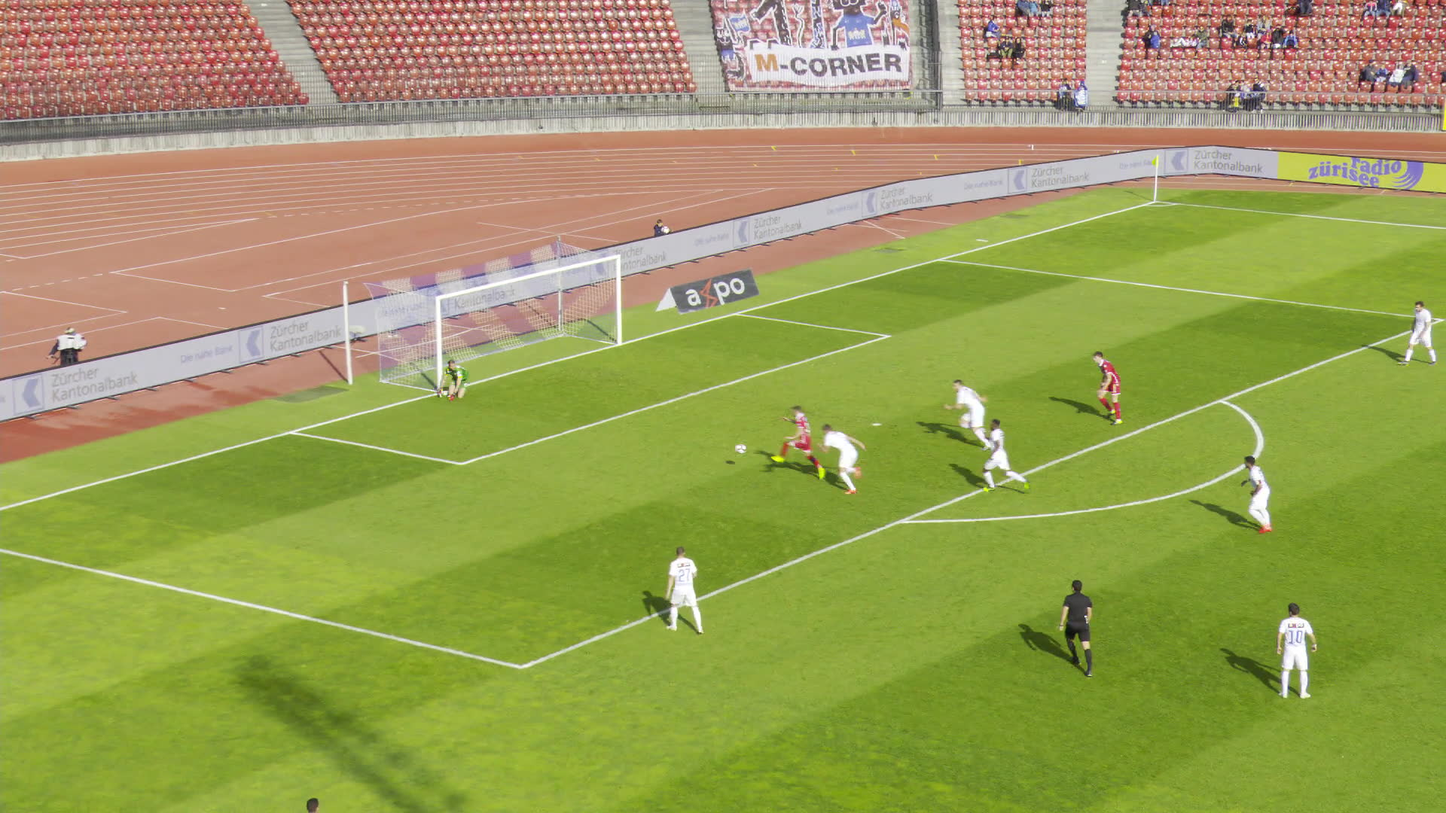ball: (729, 444, 740, 453)
player: (1273, 601, 1318, 698), (770, 403, 824, 480), (663, 545, 704, 635), (822, 420, 872, 492), (984, 419, 1031, 495), (952, 377, 999, 448), (1243, 455, 1281, 534), (1093, 350, 1126, 425), (1399, 299, 1435, 367), (431, 360, 475, 400), (307, 795, 321, 812)
referee: (1057, 577, 1093, 677)
